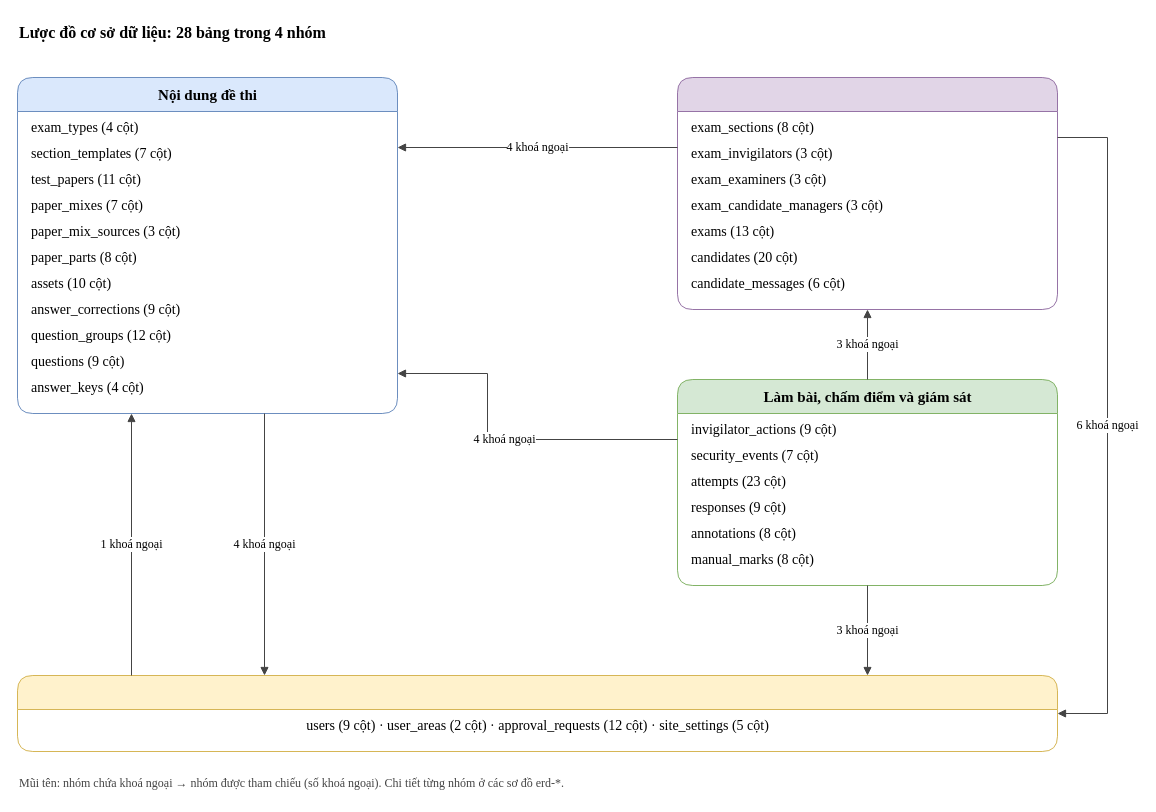
The diagram is 1156 pixels wide and 812 high, and some of its shapes have lost their labels. The shapes that lost their labels are listed below. From the top down, each one's box as (x1, y1, x2, y2) in pixels, then its label:
(676, 76, 1058, 310): Kỳ thi và thí sinh
(16, 674, 1058, 752): Tài khoản nhân sự và cấu hình
